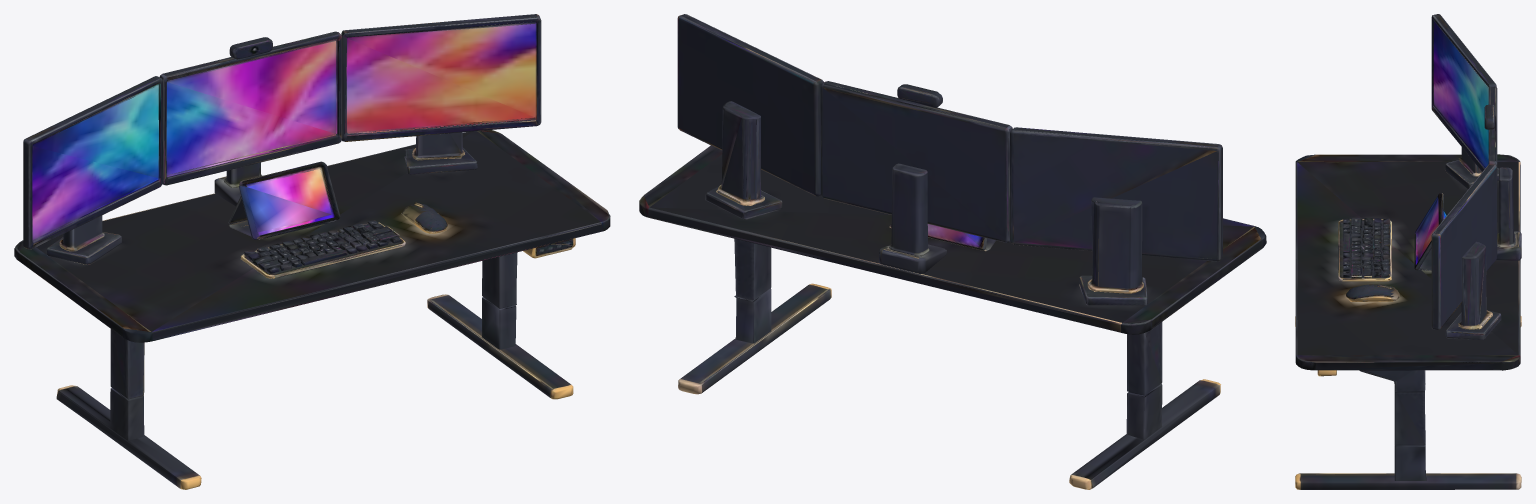
Rendered from monitor_triple_stand.glb.
The picture shows the model from 3 angles, left to right: view 1: azimuth 30°, elevation 25°; view 2: azimuth 150°, elevation 25°; view 3: azimuth 270°, elevation 25°; orthographic projection. The views are drawn at different scales.
Visible parts, largest first — view 1: prop; view 2: prop; view 3: prop.
Part boxes in pixels (<box>): prop: <box>14,14,610,489</box>; prop: <box>639,14,1266,489</box>; prop: <box>1295,14,1521,489</box>.
Bounding box in the file's own units: 1.7 × 1.02 × 0.7324.
1 material, 1 textured.
